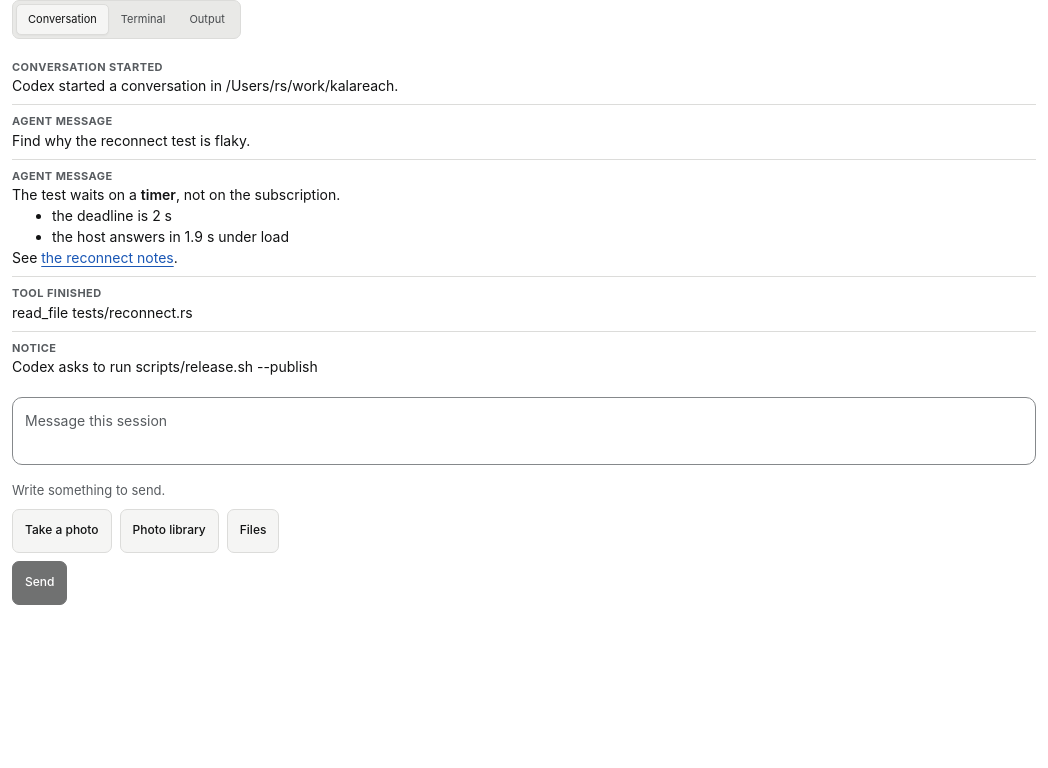
Test case: the phone's composer and the conversation it writes to (KR-REQ-13.12) › says why the agent will not take a prompt, in its own words
Check: the text "Find why the reconnect test is flaky." is shown, box [12,132,250,148]
In the text box labelled "Message this session": (524, 431) [12,397,1036,465], type "go on"
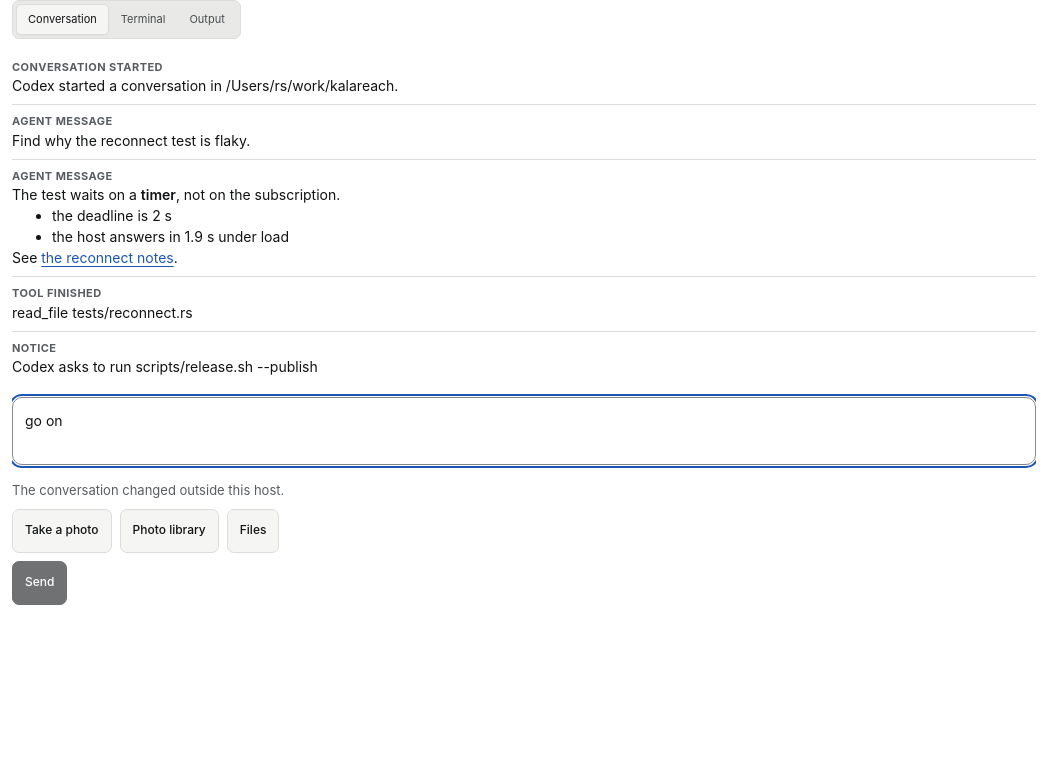
Check: the button "Send" is disabled, box [12,560,67,604]
Check: the text "The conversation changed outside this host." is shown, box [12,482,284,498]
